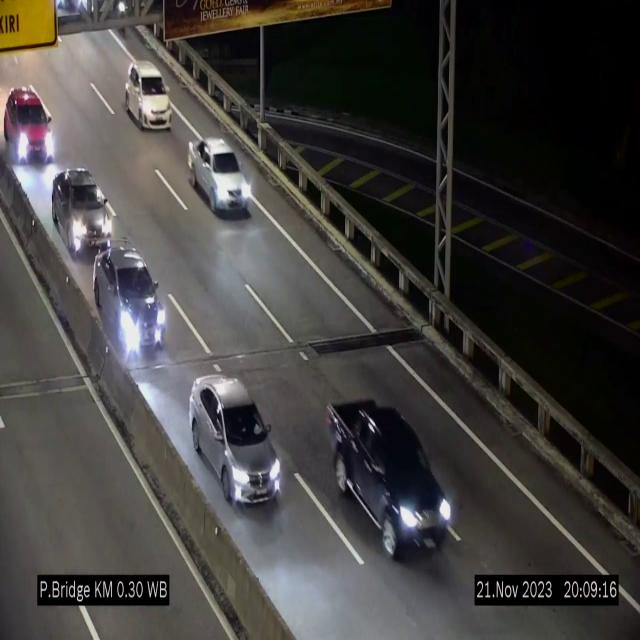Car: (328, 398, 452, 558), (189, 376, 281, 504), (92, 244, 166, 356), (51, 165, 115, 253), (188, 137, 253, 215), (2, 86, 56, 170), (125, 61, 171, 129)
Motorcycle: (111, 0, 128, 37)
